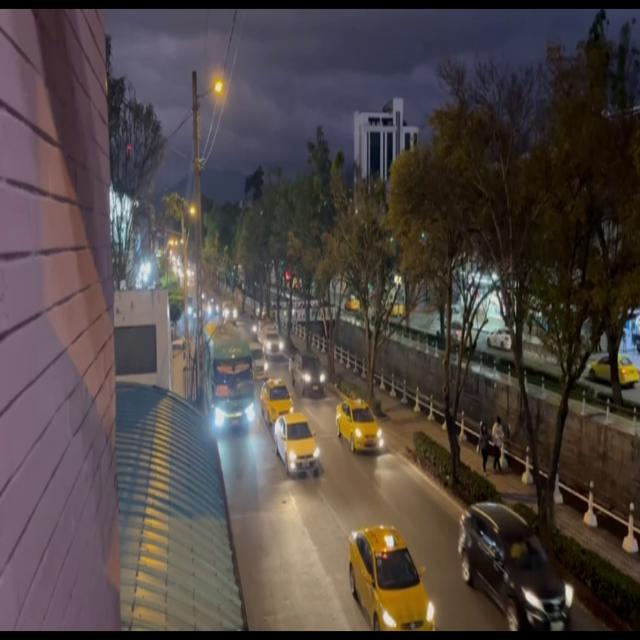BUS: (207, 330, 253, 428)
CMT: (290, 352, 325, 393)
SED: (276, 417, 318, 477), (263, 382, 293, 421)
SUV: (458, 505, 571, 629)
